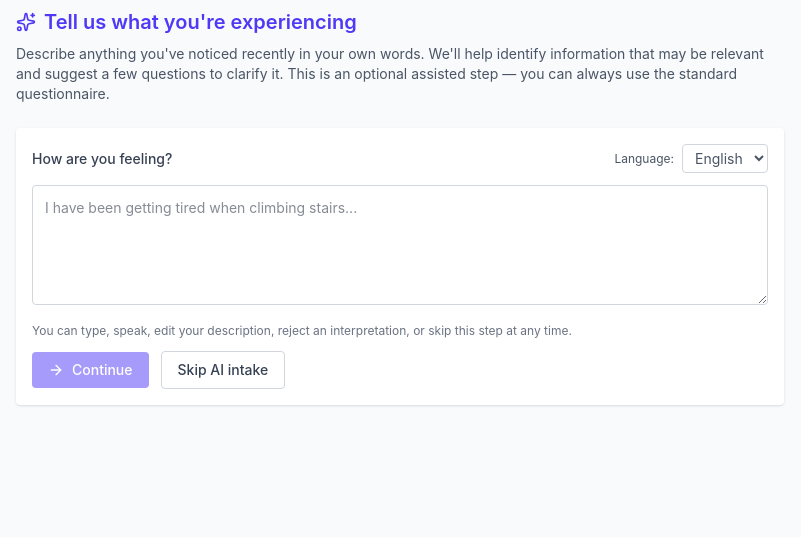
Test case: IntakePage › shows unavailable state when AI is unavailable
The width and height of the screenshot is (801, 537).
In the text box: coordinates (400, 245) [32,185,768,305], type "tired"
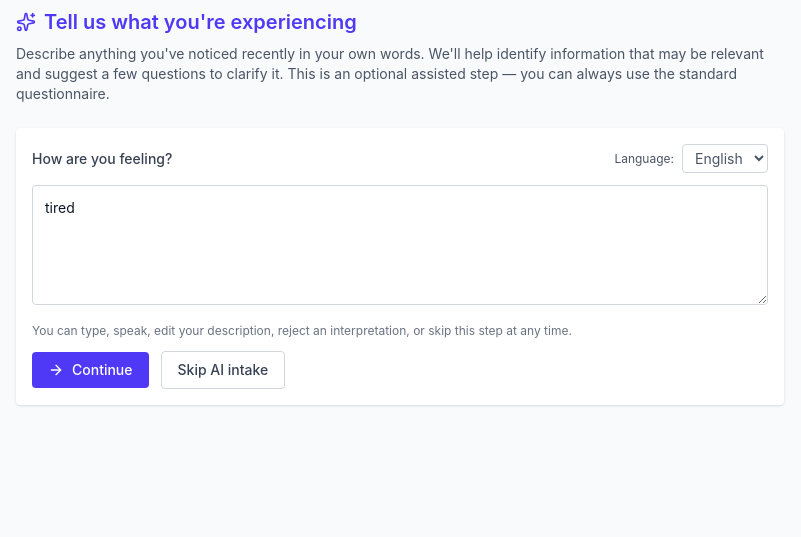
Click the button "Continue": coordinates (90, 370) [32,352,148,388]
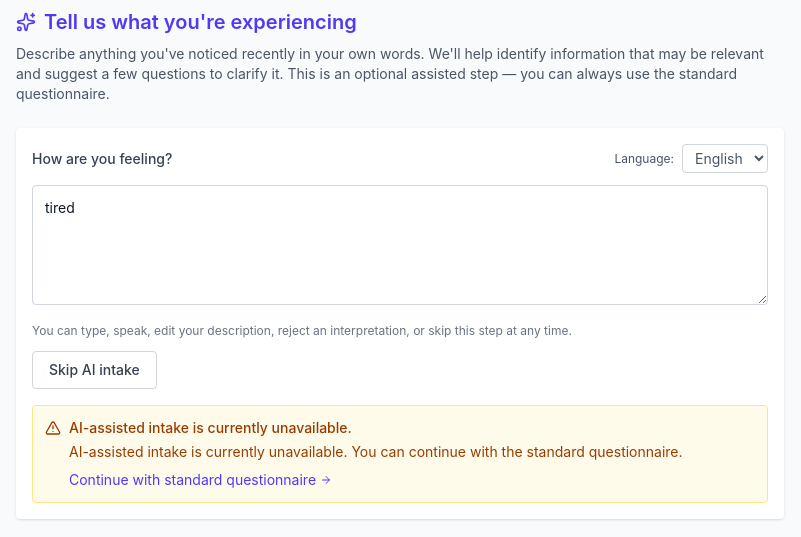
Expected: the text "AI-assisted intake is currently unavailable." is shown, [69,419,352,436]
